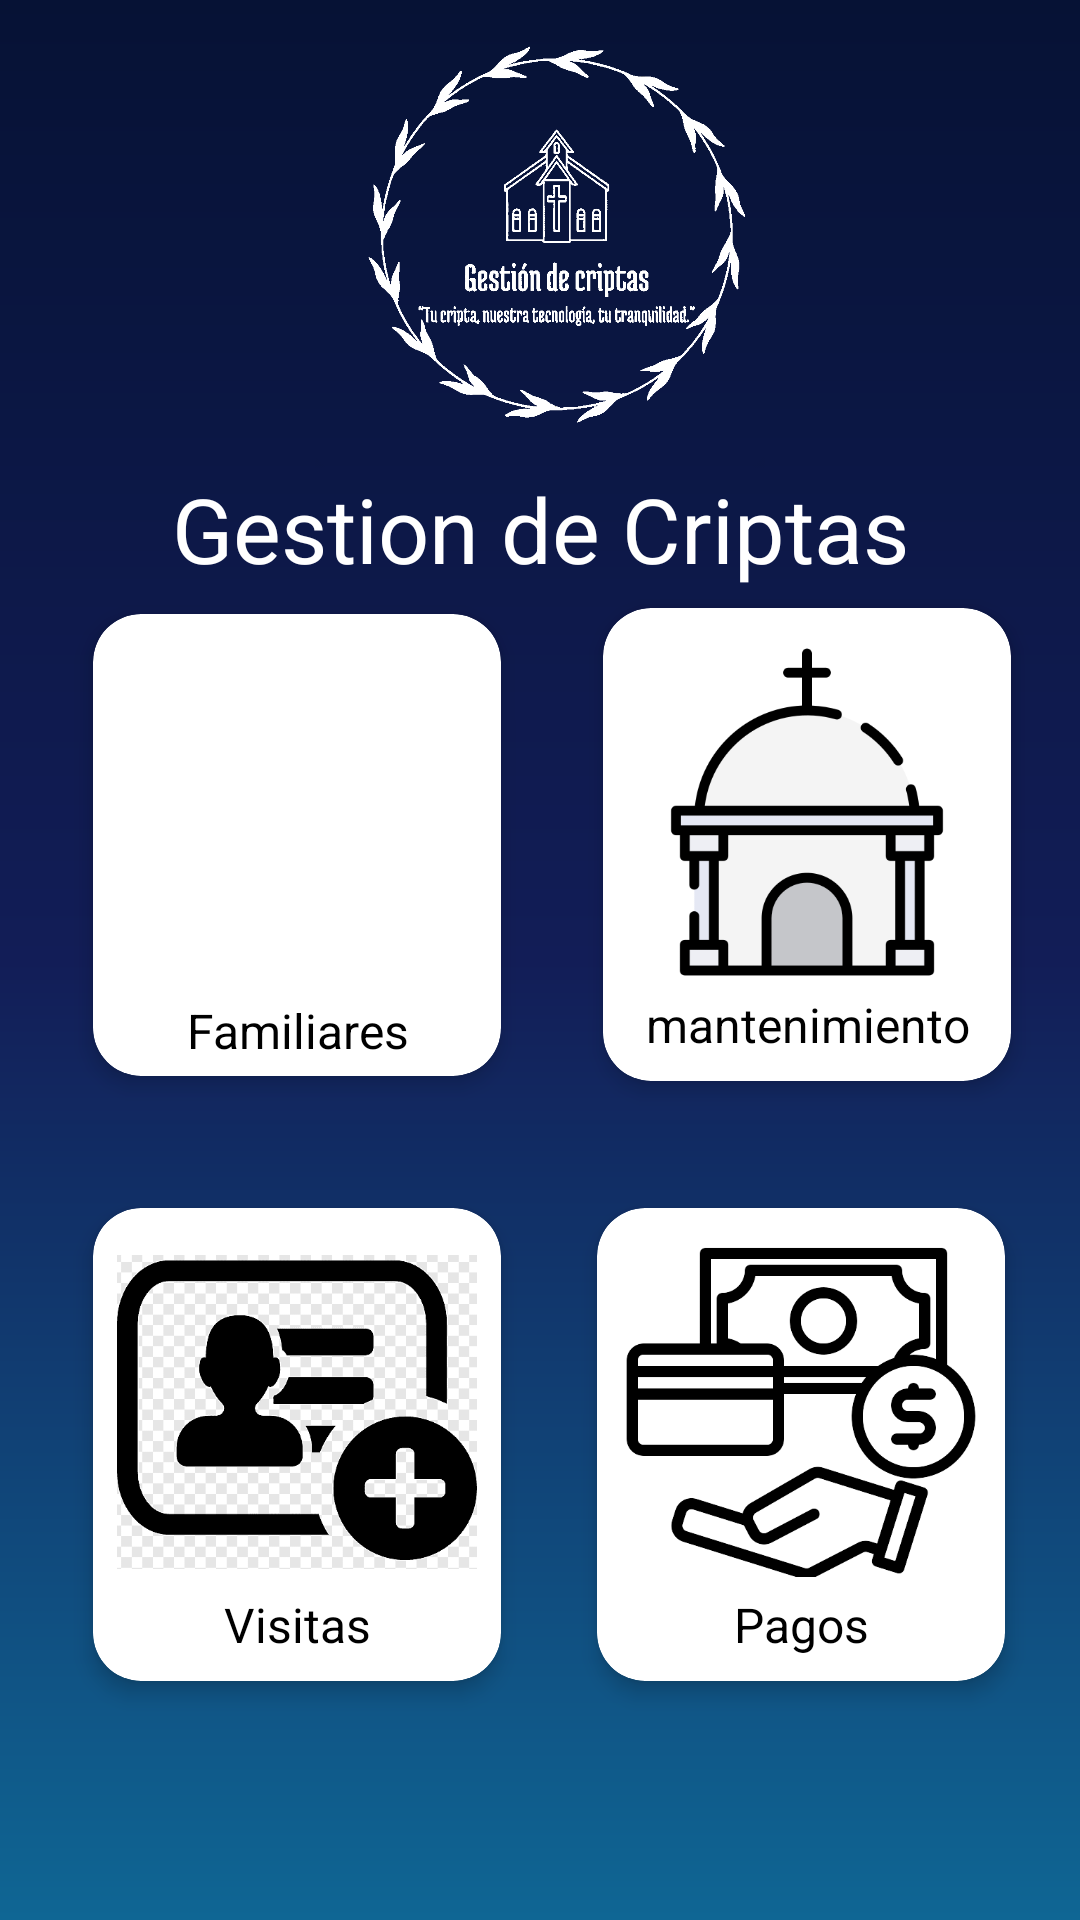

Screen size 1080 × 1920. Icon name, then its center in pixels as point (x, y):
criptaicono: point (807, 812)
